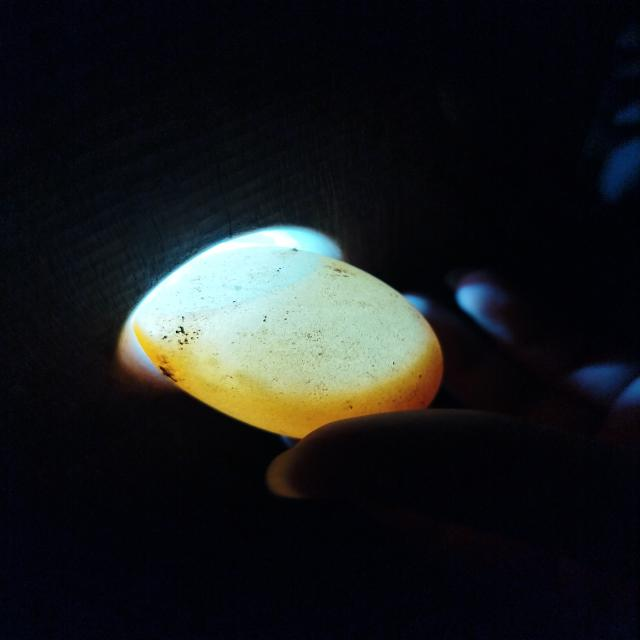Camara de Ar: (135, 247, 319, 319)
Gema Quebrada: (135, 321, 443, 436)
